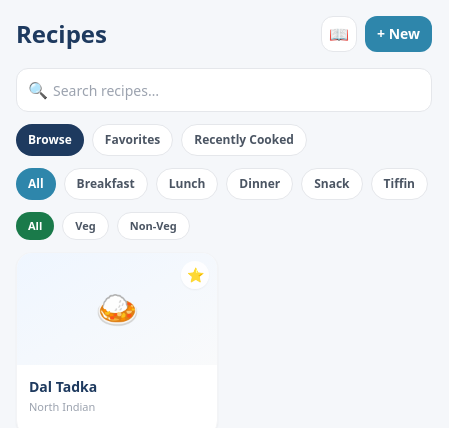
Test: RecipeLibrary › shows recipes already marked as favorites in the Favorites tab
Click the button "Favorites" at (133, 140), box [92,124,173,156]
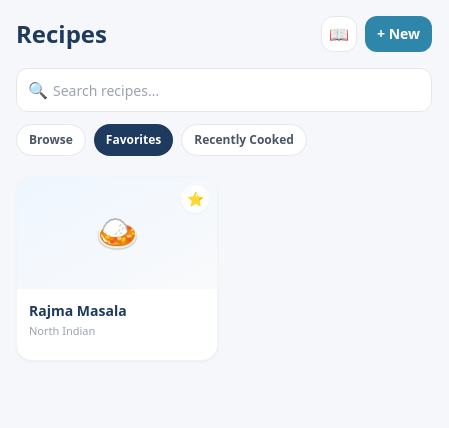
Check: the text "Rajma Masala" is shown, box [29,301,127,320]
